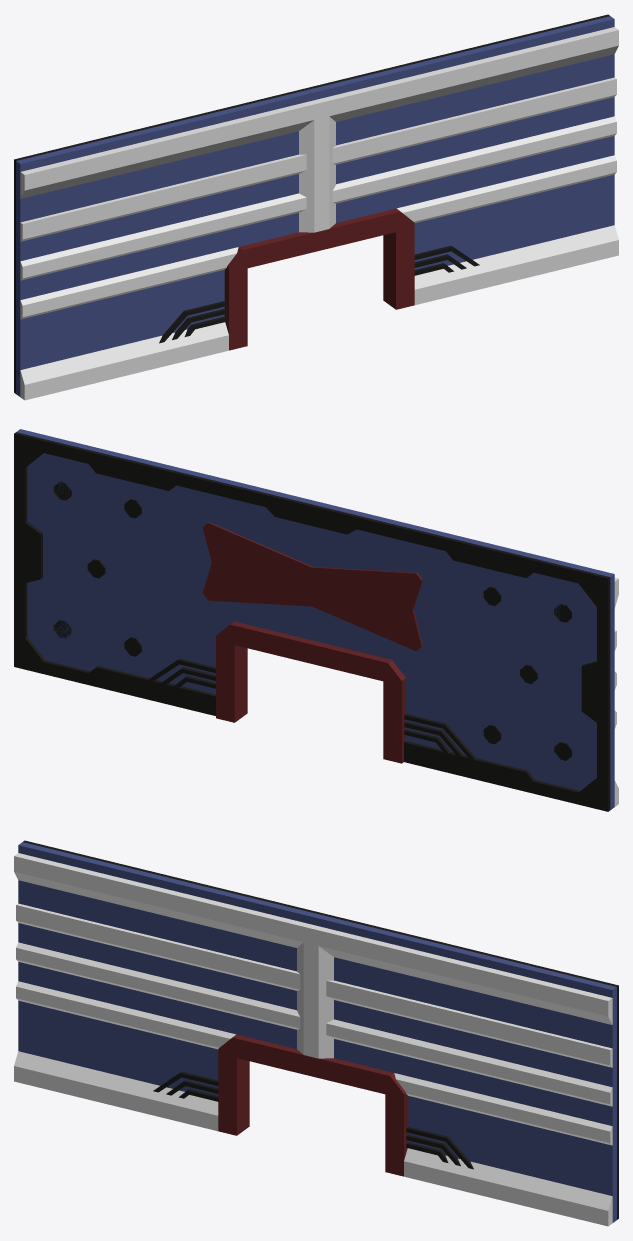
Rendered from Large_Wall_Door.glb.
3 views of the same model, one above another, from view 1: azimuth 30°, elevation 25°; view 2: azimuth 150°, elevation 25°; view 3: azimuth 330°, elevation 25° (orthographic).
Parts seen in each view (by area): view 1: Large_Wall_Doorway, Large_Doorway_Wall_Panel, Large_Wall_Interior_Top_Bottom_Panel, Large_Frame, Large_Wall_Interior_Center_Panel, Interior_Door_Arms, Large_Extruded_Wall_Doorway_Top; view 2: Large_Wall_Doorway, Large_Extruded_Wall_Doorway_Top, Large_Doorway_Panel, Large_Extruded_Wall_Doorway_Bot, Large_Frame, Large_Buds, Exterior_Door_Arms; view 3: Large_Wall_Doorway, Large_Doorway_Wall_Panel, Large_Wall_Interior_Top_Bottom_Panel, Large_Frame, Large_Wall_Interior_Center_Panel, Interior_Door_Arms, Large_Extruded_Wall_Doorway_Top.
Part boxes in pixels (x1,y1,x2,y2): Large_Wall_Doorway: (16,16,614,396); Large_Doorway_Wall_Panel: (20,77,616,319); Large_Wall_Interior_Top_Bottom_Panel: (20,27,618,400); Large_Frame: (224,208,414,350); Large_Wall_Interior_Center_Panel: (299,116,335,232); Interior_Door_Arms: (159,245,479,343); Large_Extruded_Wall_Doorway_Top: (14,14,609,277); Large_Wall_Doorway: (16,429,614,809); Large_Extruded_Wall_Doorway_Top: (14,432,610,695); Large_Doorway_Panel: (202,522,422,650); Large_Extruded_Wall_Doorway_Bot: (14,550,610,811); Large_Frame: (216,621,405,763); Large_Buds: (53,481,571,760); Exterior_Door_Arms: (148,658,476,759); Large_Wall_Doorway: (18,842,616,1222); Large_Doorway_Wall_Panel: (16,903,612,1145); Large_Wall_Interior_Top_Bottom_Panel: (14,853,612,1226); Large_Frame: (218,1034,408,1176); Large_Wall_Interior_Center_Panel: (297,942,333,1058); Interior_Door_Arms: (153,1071,473,1169); Large_Extruded_Wall_Doorway_Top: (23,840,618,1103).
Size of the model in its own units: 16 by 6 by 0.6.
